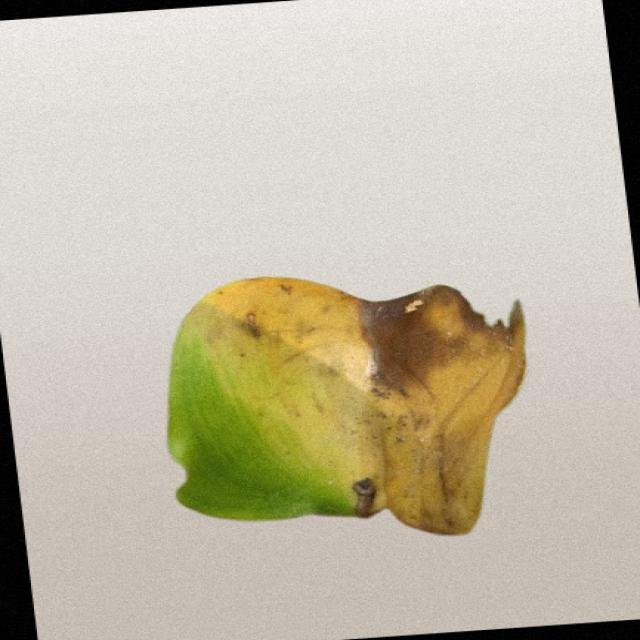daun berpenyakit kuning: (169, 278, 525, 535)
